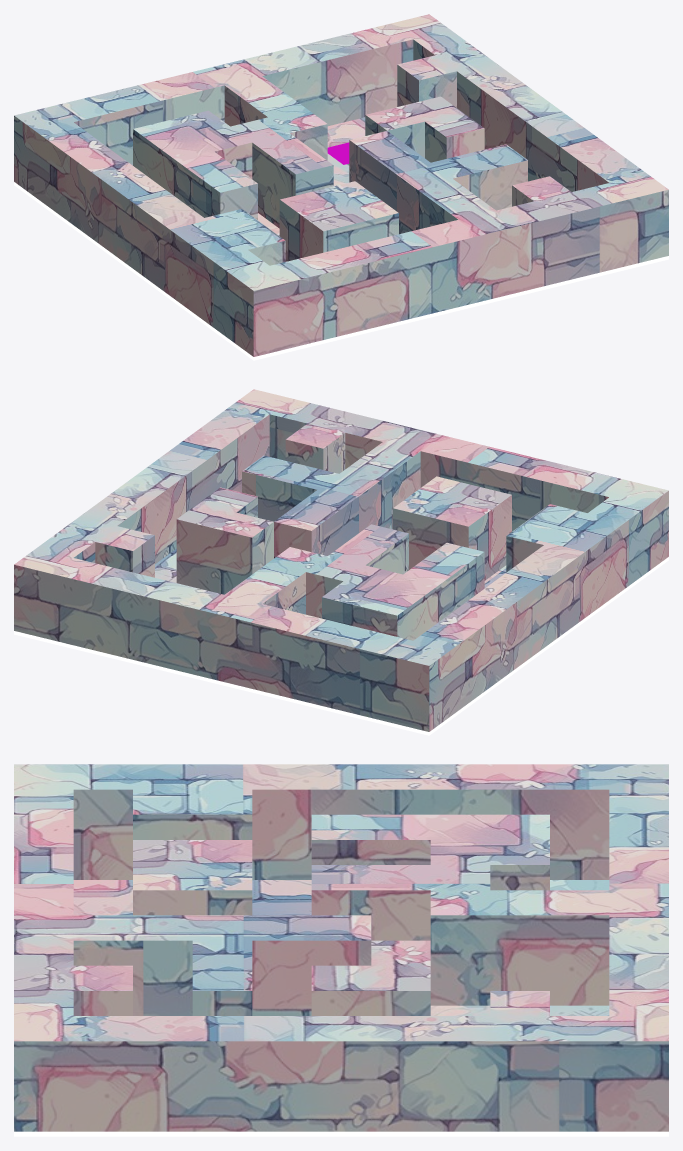
Rendered from floor2.glb.
3 views of the same model, one above another, from view 1: azimuth 30°, elevation 25°; view 2: azimuth 150°, elevation 25°; view 3: azimuth 270°, elevation 25° (orthographic). The views are drawn at different scales.
Parts seen in each view (by area): view 1: Floor2; view 2: Floor2; view 3: Floor2.
Part boxes in pixels (bbox=[...]): Floor2: bbox=[14, 14, 668, 360]; Floor2: bbox=[14, 389, 668, 735]; Floor2: bbox=[14, 764, 668, 1136].
Size of what is drawn, in the model's own units: 32 by 5.14 by 32.
Materials: 4 (1 with a texture image).
